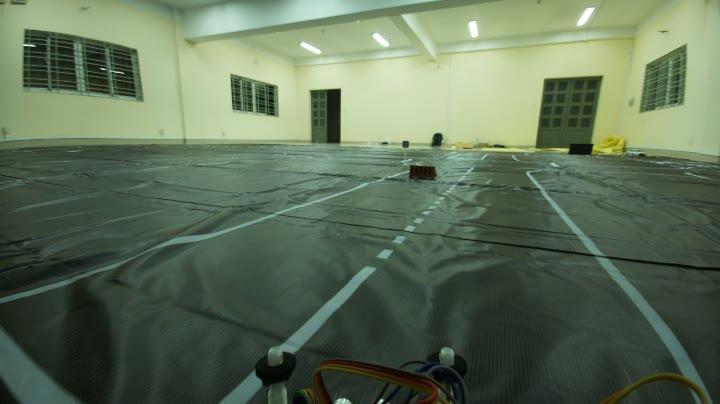roadblock: (406, 160, 440, 186)
